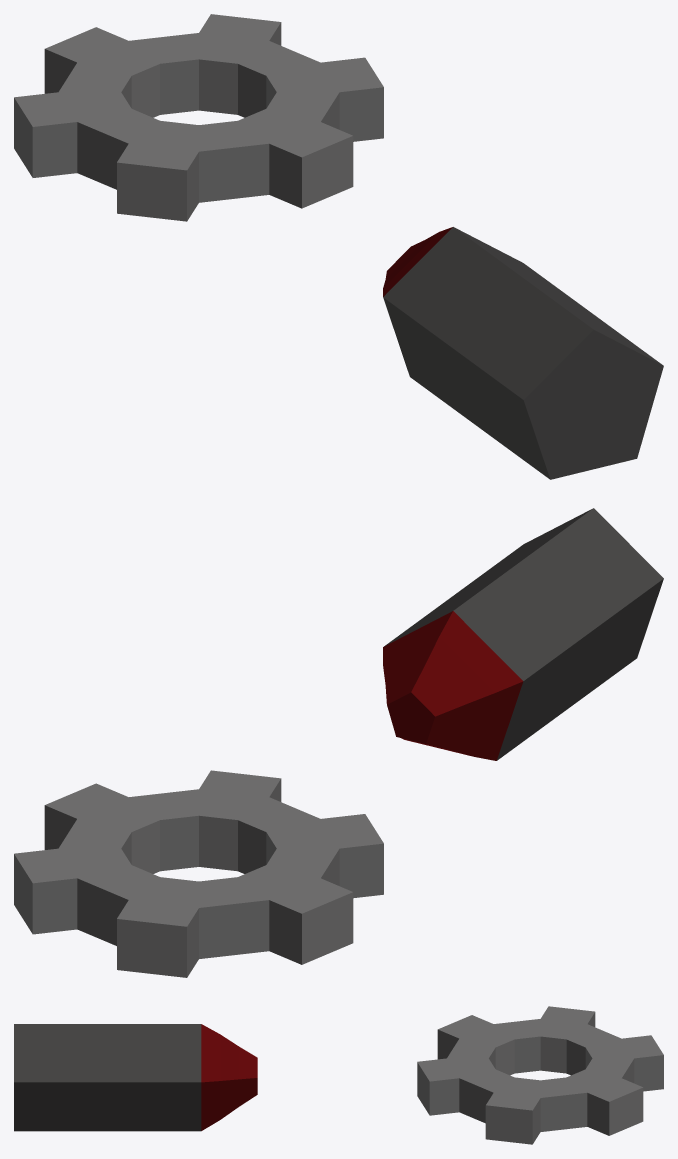
The model's file is outros.fbx.
The picture shows the model from 3 angles, top to bottom: view 1: azimuth 30°, elevation 25°; view 2: azimuth 150°, elevation 25°; view 3: azimuth 270°, elevation 25°; orthographic projection. The views are drawn at different scales.
Visible parts, largest first — view 1: Gear, Bullet; view 2: Gear, Bullet; view 3: Bullet, Gear.
Boxes of the visible parts, left/top/right/bottom form: Gear: left=14, top=14, right=383, bottom=221; Bullet: left=383, top=227, right=663, bottom=479; Gear: left=14, top=770, right=383, bottom=977; Bullet: left=383, top=508, right=663, bottom=760; Bullet: left=14, top=1024, right=257, bottom=1131; Gear: left=417, top=1006, right=663, bottom=1144.
Bounding box in the file's own units: 263 × 110 × 693.
